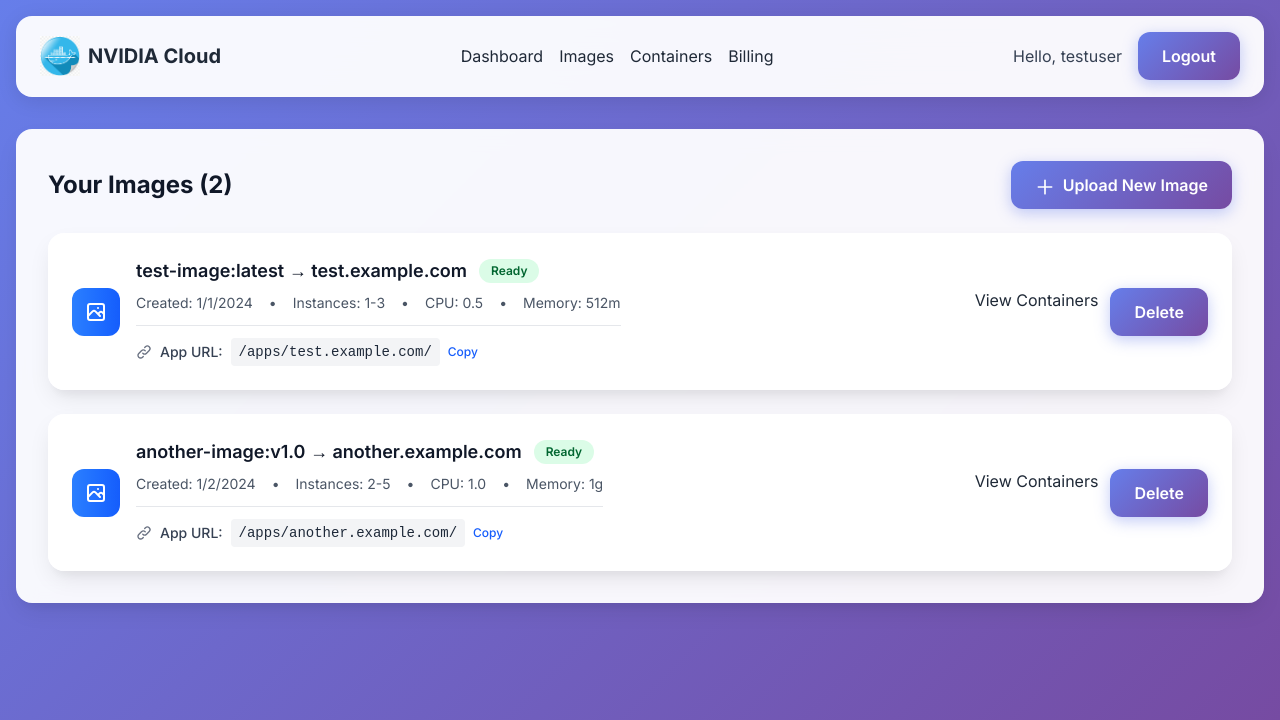
Scenario: ImagesPage › Delete Image › should delete an image successfully
Expected: the text "test-image:latest → test.example.com" is shown, [136, 260, 467, 281]
Step 1. Click the button "Delete" in the row of "512m" → (1159, 312), box [1110, 288, 1208, 336]
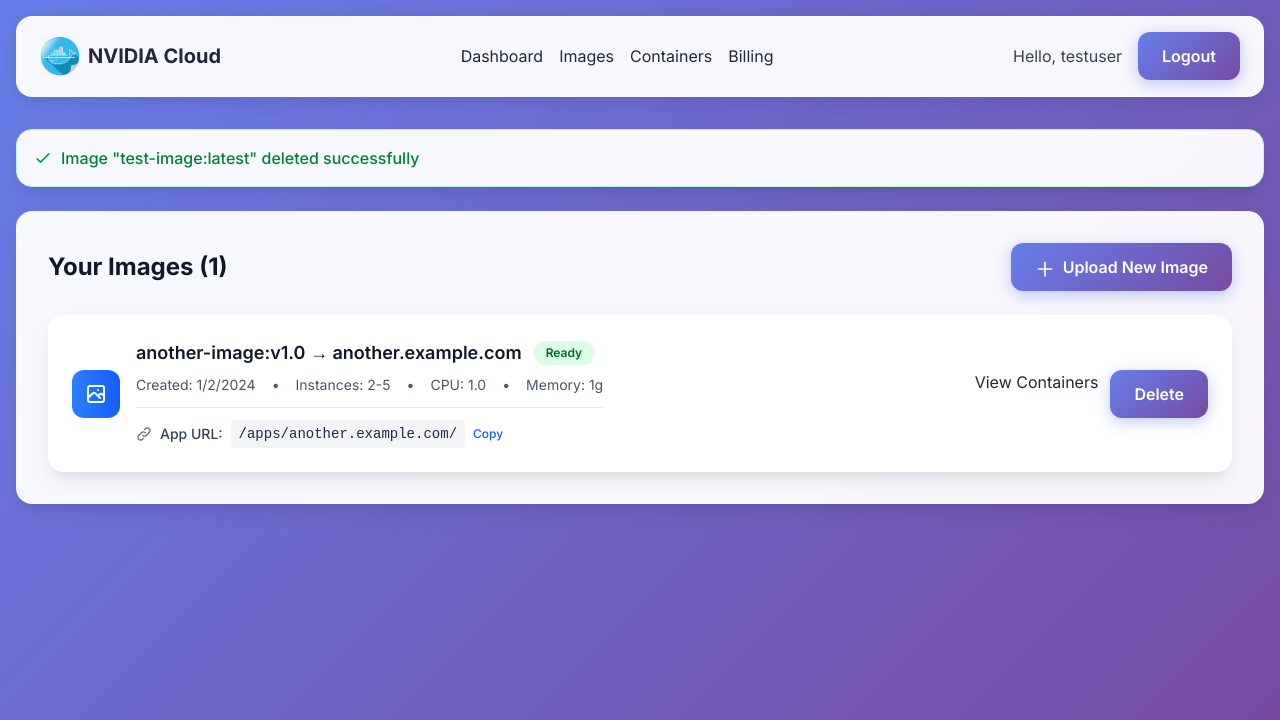
Result: the text "Image \"test-image:latest\" deleted successfully" is shown at [61, 146, 420, 170]
